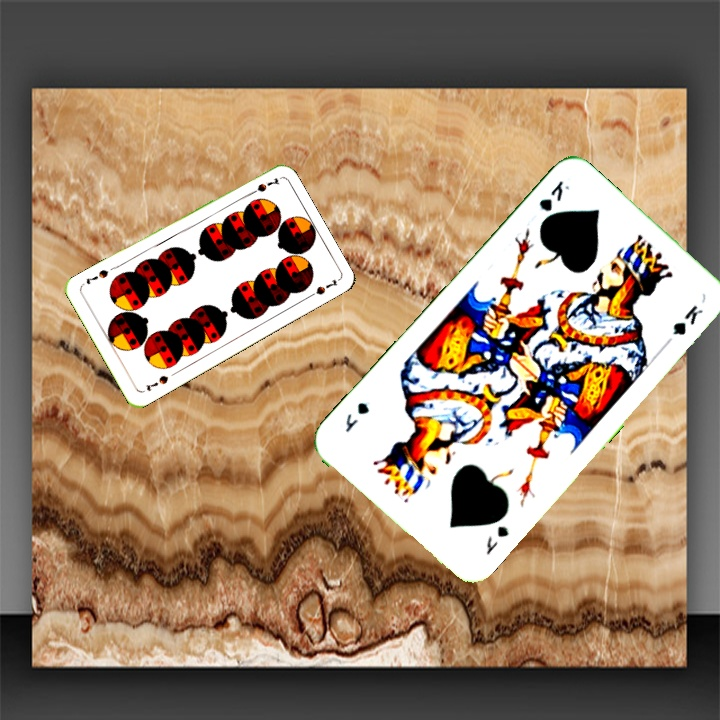GK: (534, 176, 573, 215), (482, 521, 512, 558)
S7: (243, 173, 281, 198), (142, 371, 171, 394)
